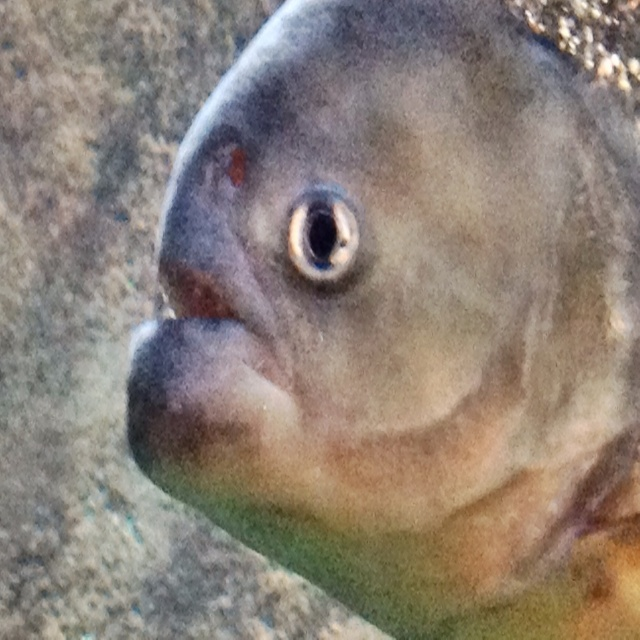Fish: (123, 0, 640, 639)
